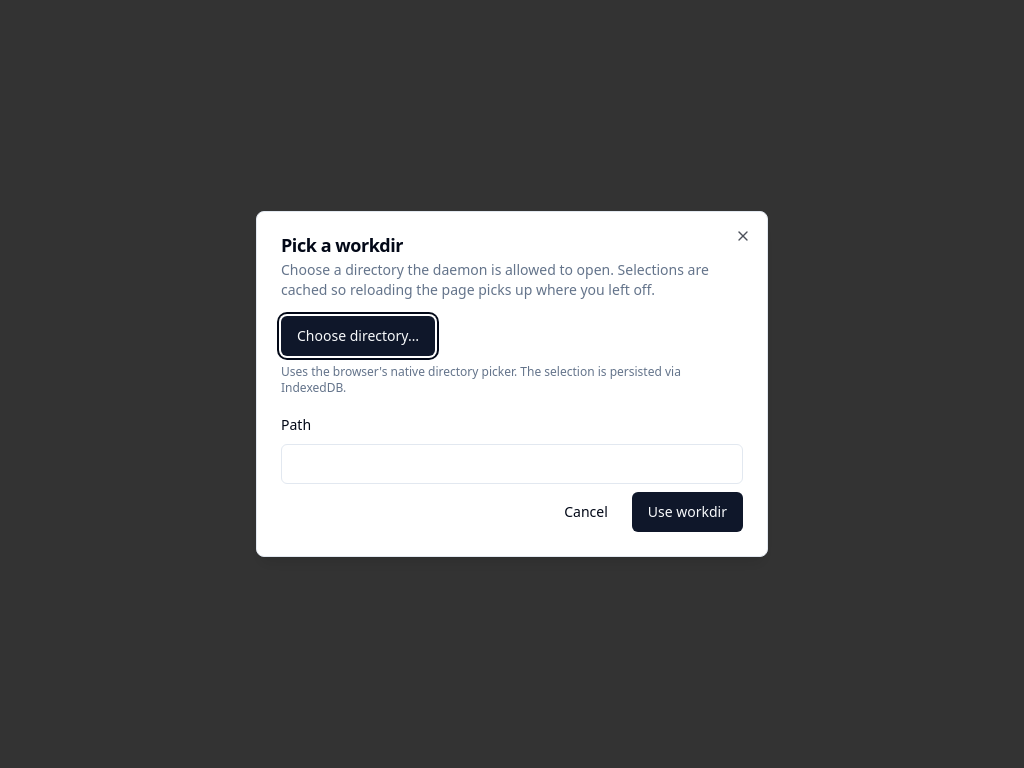
Test: <WorkdirPickerDialog> › blocks submit + surfaces error when path is empty
Click the button with test id "workdir-picker-submit": (687, 512) [632,492,743,532]
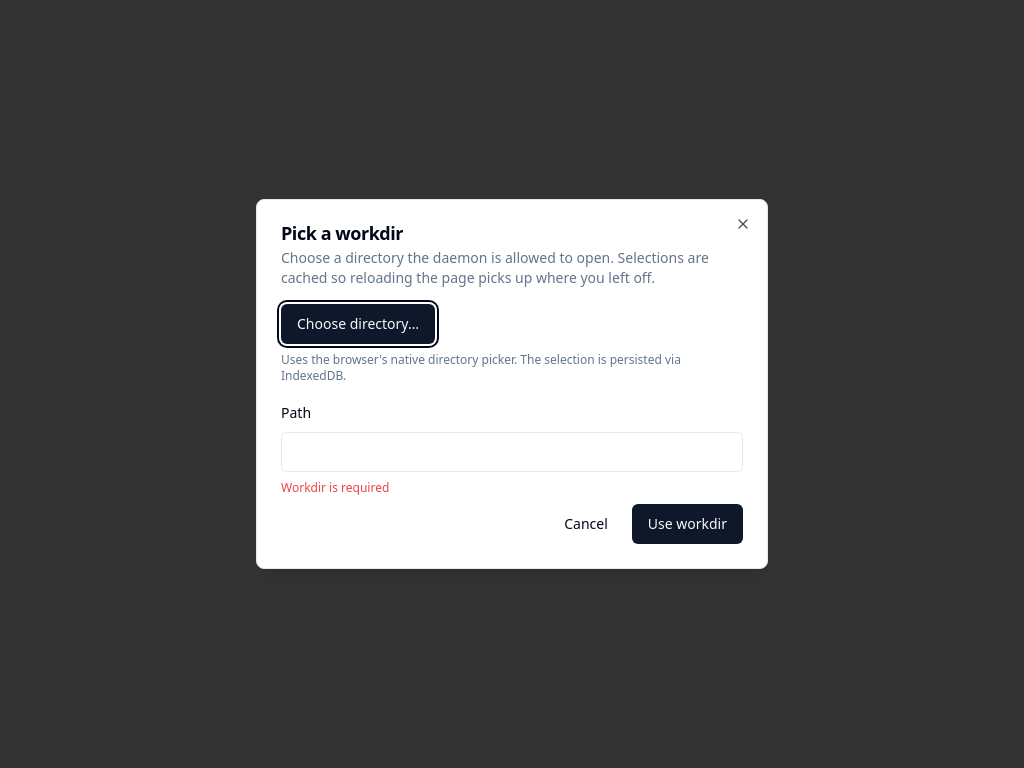
Result: the message "Workdir is required" is shown at [281,479,389,496]
